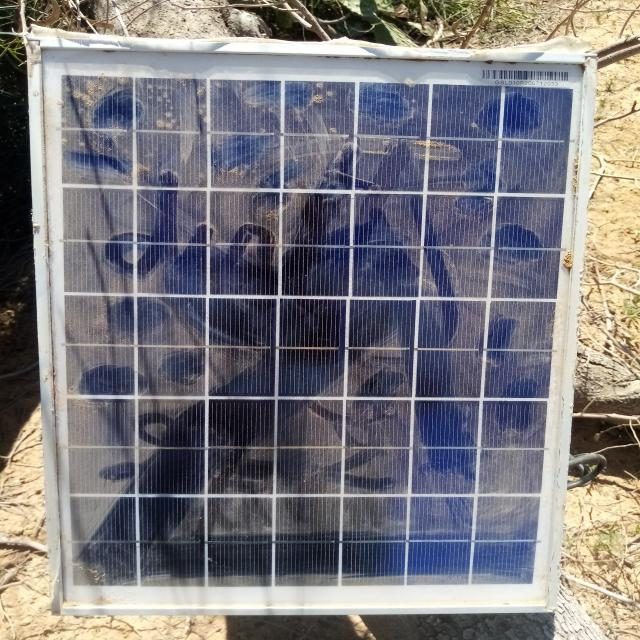faulty: (39, 42, 589, 611)
